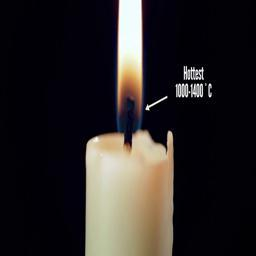fire: (115, 1, 143, 135)
